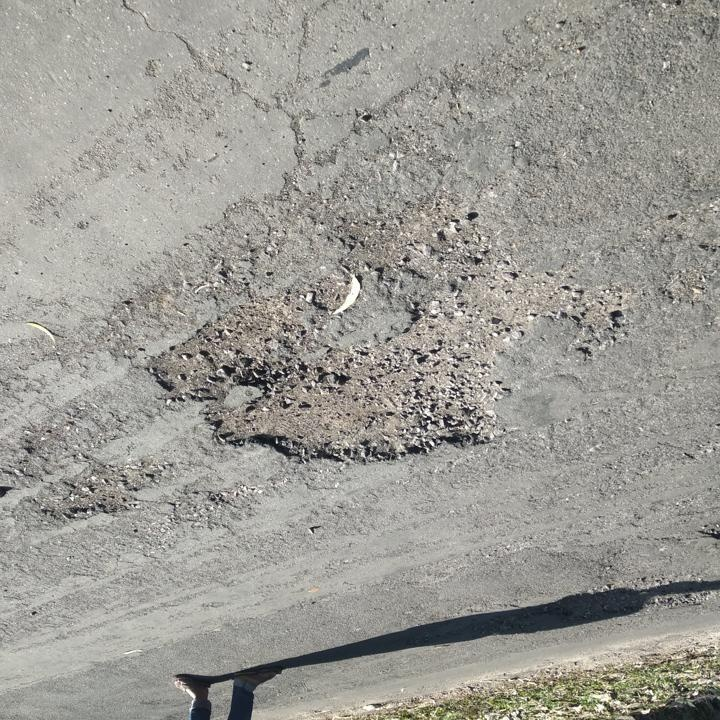pothole: (142, 195, 635, 474), (34, 461, 142, 524)
